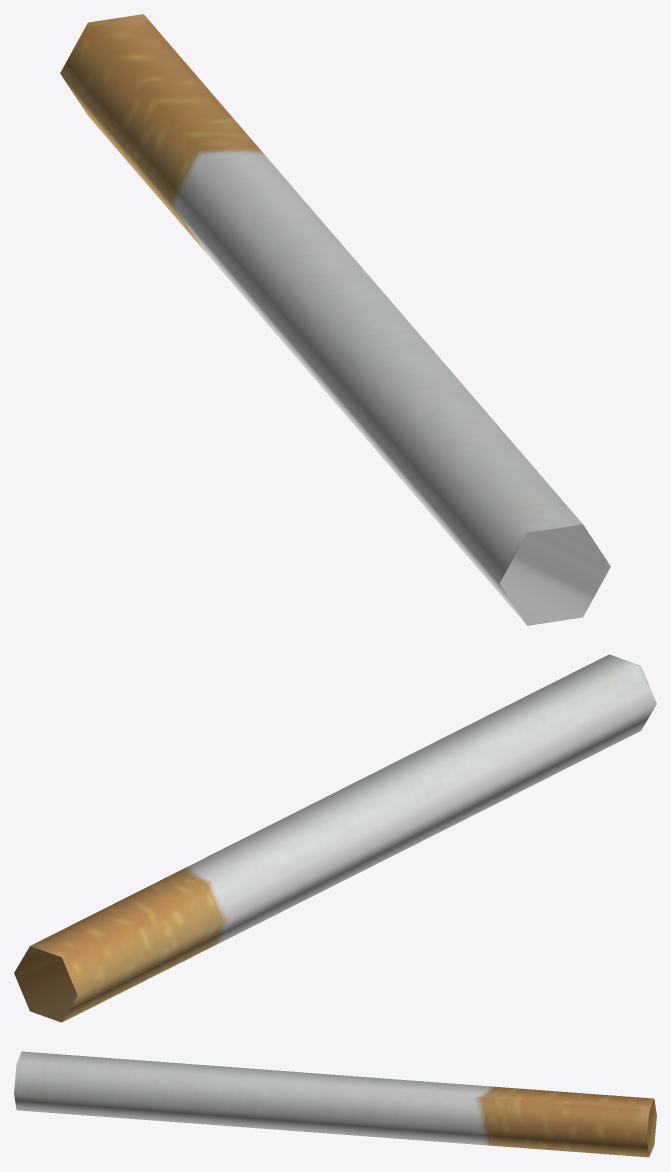
Rendered from individual_cigarette.FBX.
The picture shows the model from 3 angles, top to bottom: view 1: azimuth 30°, elevation 25°; view 2: azimuth 150°, elevation 25°; view 3: azimuth 270°, elevation 25°; orthographic projection. The views are drawn at different scales.
Parts seen in each view (by area): view 1: individual_cigarette; view 2: individual_cigarette; view 3: individual_cigarette.
Part boxes in pixels (x1,y1,x2,y2): individual_cigarette: (60,14,610,625); individual_cigarette: (14,654,656,1022); individual_cigarette: (14,1051,656,1157).
Size of the model in its own units: 3.23 by 0.9753 by 12.21.
